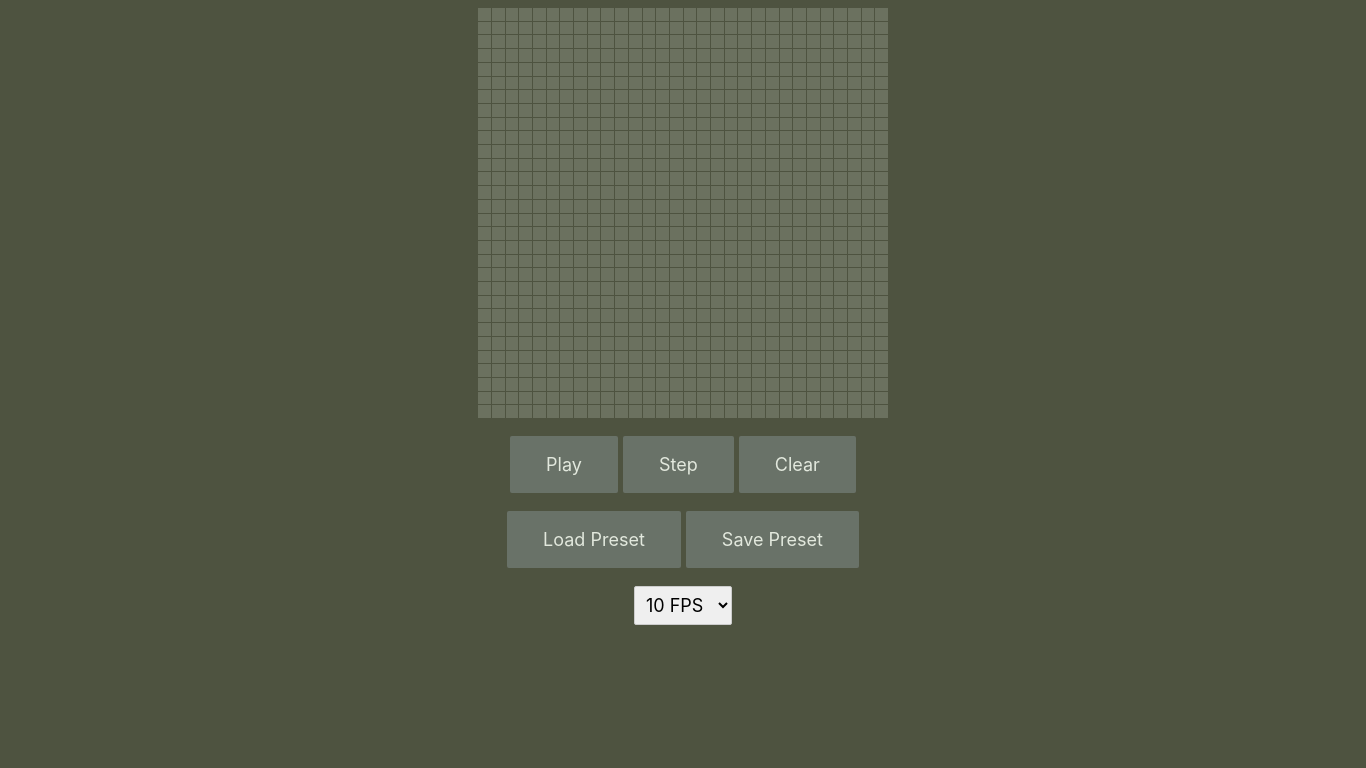
Test: Presets › Presets Panel › can be opened
Click the button "Load Preset": (594, 540) [507, 511, 681, 568]
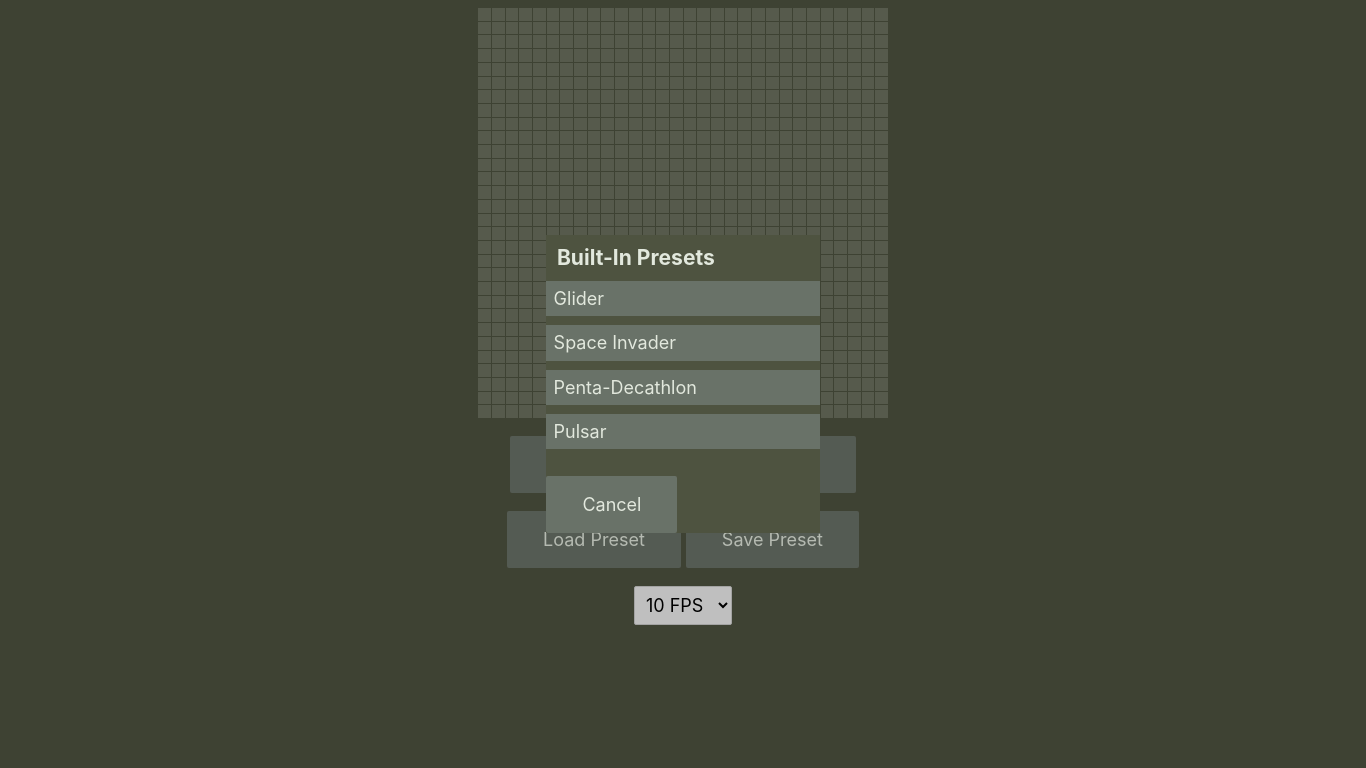
Expected: the element with test id "preset:picker" is shown
